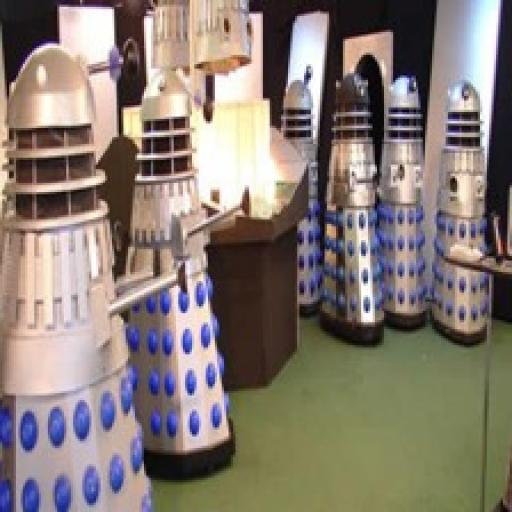dalek: (0, 42, 191, 512), (120, 71, 243, 482), (319, 73, 388, 350), (429, 80, 491, 345), (273, 63, 323, 319), (382, 76, 428, 332)
